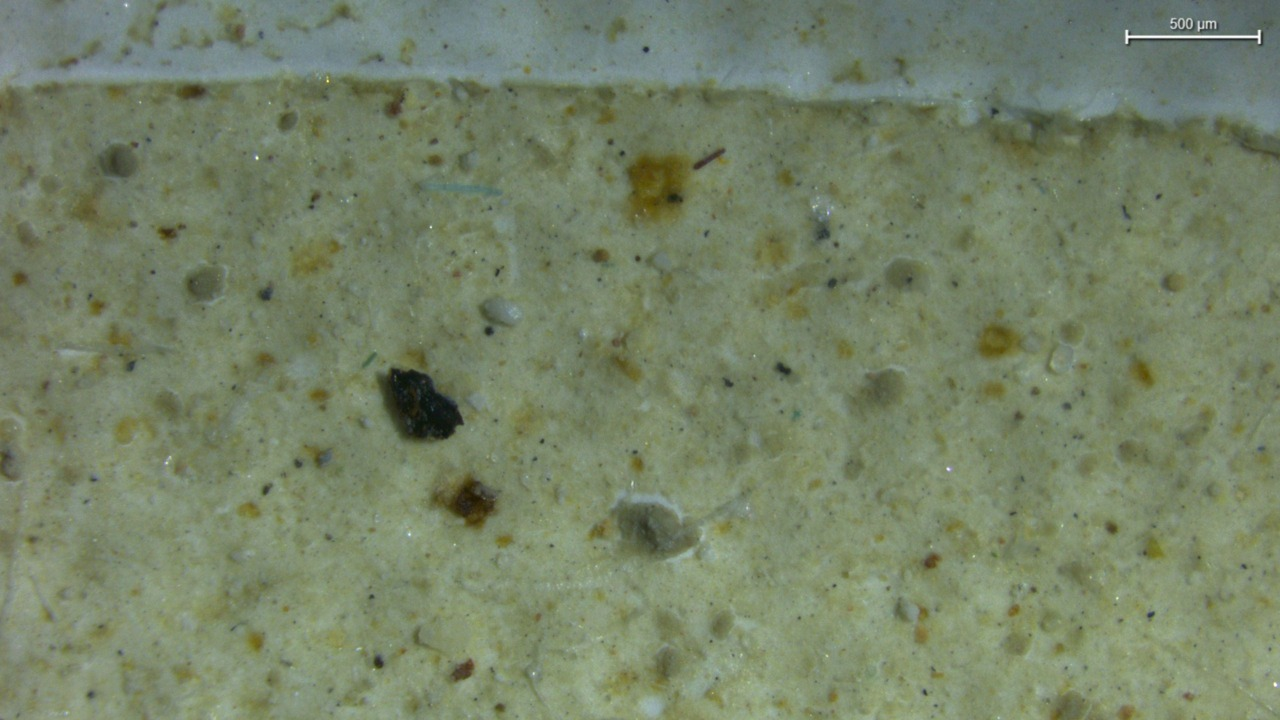microplastic_fragment: (388, 369, 463, 439), (482, 297, 522, 326)
